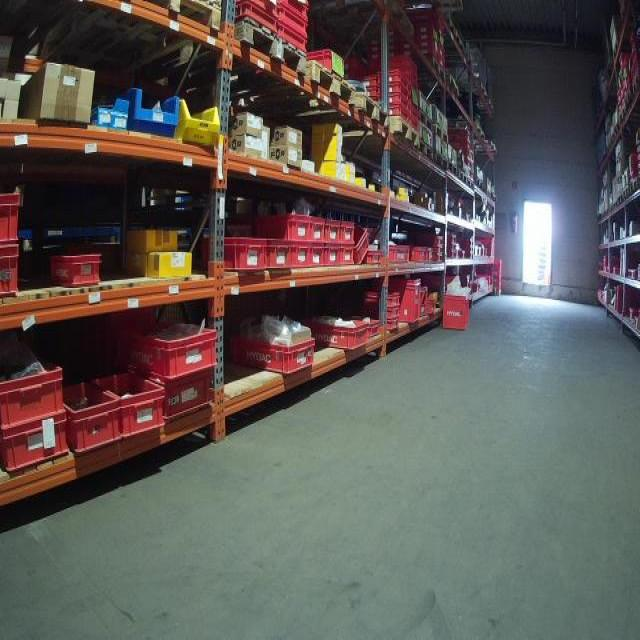pallet: (2, 4, 223, 74), (199, 60, 363, 127), (129, 17, 308, 78), (293, 92, 393, 139), (362, 114, 421, 152), (397, 133, 435, 162), (423, 146, 448, 177), (410, 106, 435, 134), (443, 157, 460, 178), (433, 122, 449, 143), (628, 177, 639, 198)
small_load_carrier: (122, 317, 222, 376), (98, 367, 170, 439), (1, 359, 68, 433), (65, 379, 120, 459), (226, 329, 318, 374), (3, 415, 67, 479), (191, 233, 268, 275), (170, 367, 220, 426), (371, 275, 424, 330), (35, 247, 97, 289), (304, 315, 373, 352), (247, 210, 312, 242), (226, 4, 280, 38), (437, 291, 472, 333), (2, 248, 28, 303), (308, 51, 344, 82), (261, 233, 287, 270), (276, 24, 309, 53), (355, 225, 377, 267), (3, 190, 19, 245), (285, 242, 312, 272), (278, 9, 308, 36), (380, 243, 411, 266), (360, 291, 403, 307), (308, 243, 328, 277), (337, 216, 356, 245), (282, 2, 311, 21), (374, 70, 407, 85), (409, 245, 432, 266), (374, 93, 405, 108), (365, 247, 385, 270), (360, 307, 401, 318), (310, 215, 328, 237), (338, 250, 358, 269), (326, 215, 338, 245), (248, 2, 276, 14), (326, 244, 339, 267), (374, 85, 407, 93), (422, 235, 446, 244), (386, 108, 405, 119), (390, 318, 402, 331), (432, 255, 444, 264), (428, 247, 444, 253)
